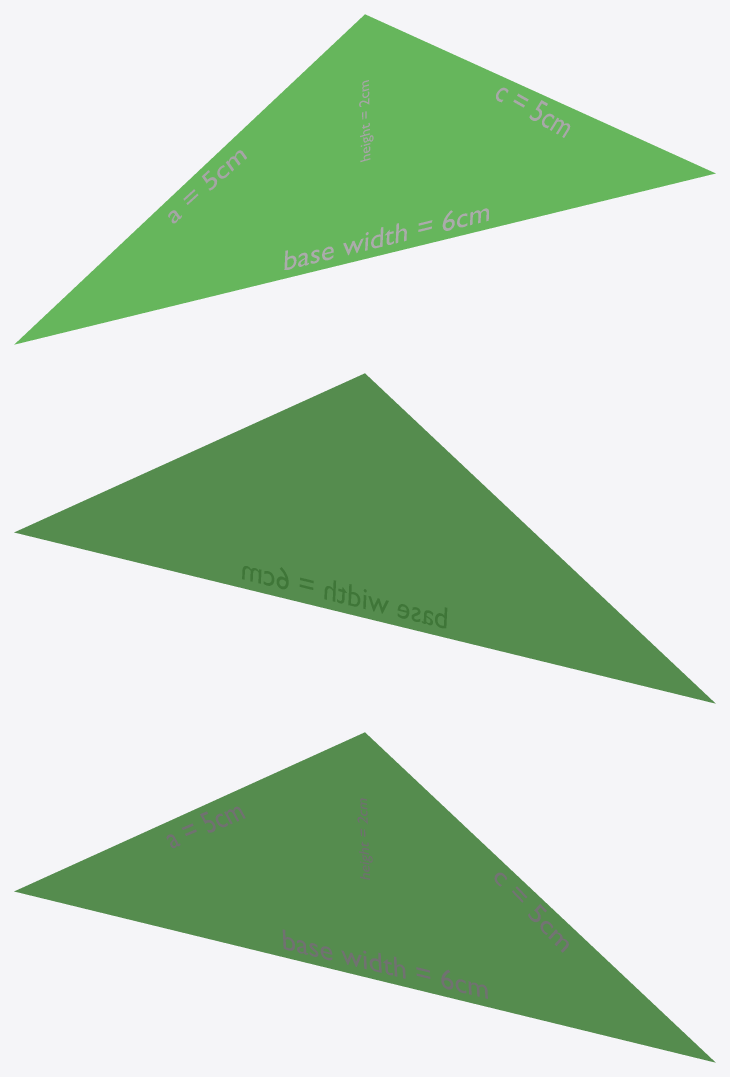
The model's file is triangle5x6x2.glb.
3 renders of one model, top to bottom at view 1: azimuth 30°, elevation 25°; view 2: azimuth 150°, elevation 25°; view 3: azimuth 330°, elevation 25°, orthographic.
Parts seen in each view (by area): view 1: Cone, base with; view 2: Cone, base with; view 3: Cone, base with.
Boxes of the visible parts, <box> form: Cone: <box>14,14,715,344</box>; base with: <box>284,208,488,269</box>; Cone: <box>14,373,715,703</box>; base with: <box>242,566,446,627</box>; Cone: <box>14,732,715,1062</box>; base with: <box>282,929,487,998</box>.
Bounding box in the file's own units: 0.6 × 0.2 × 0.00207.
